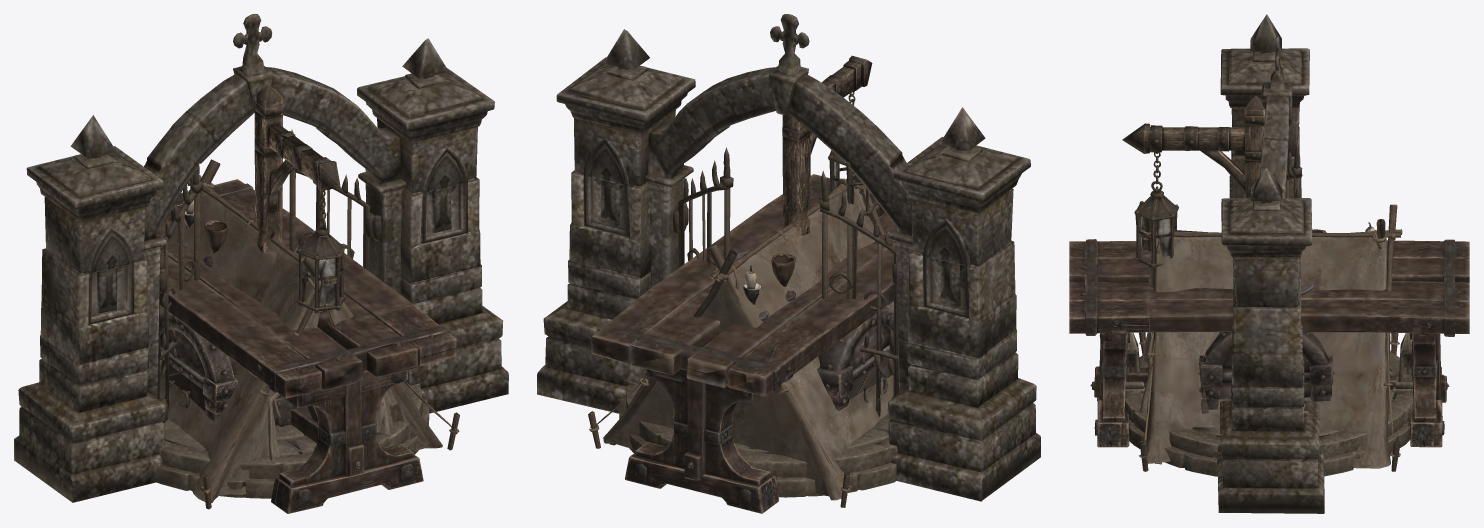
The model's file is camp.glb.
3 renders of one model, left to right at view 1: azimuth 30°, elevation 25°; view 2: azimuth 150°, elevation 25°; view 3: azimuth 270°, elevation 25°, orthographic. The views are drawn at different scales.
Parts seen in each view (by area): view 1: h_arch_gate, d_table_long_decorated_A, p_tent, h_post_lantern, p_waypoint, d_chest_gold, chest_gold_lid; view 2: h_arch_gate, d_table_long_decorated_A, p_tent, p_waypoint, h_post_lantern, chest_gold_lid, d_chest_gold; view 3: h_arch_gate, d_table_long_decorated_A, p_tent, p_waypoint, h_post_lantern, chest_gold_lid, d_chest_gold.
Boxes of the visible parts, x1,y1,x2,y2 form: h_arch_gate: (14, 14, 508, 502); d_table_long_decorated_A: (156, 179, 456, 513); p_tent: (159, 159, 459, 509); h_post_lantern: (254, 84, 345, 313); p_waypoint: (156, 382, 429, 498); d_chest_gold: (160, 346, 295, 434); chest_gold_lid: (159, 312, 238, 385); h_arch_gate: (537, 14, 1040, 501); d_table_long_decorated_A: (591, 174, 897, 513); p_tent: (588, 172, 893, 507); p_waypoint: (619, 381, 897, 497); h_post_lantern: (782, 55, 877, 235); chest_gold_lid: (816, 307, 893, 397); d_chest_gold: (824, 345, 893, 411); h_arch_gate: (1217, 14, 1324, 513); d_table_long_decorated_A: (1069, 222, 1469, 447); p_tent: (1139, 204, 1402, 471); p_waypoint: (1125, 332, 1413, 476); h_post_lantern: (1122, 95, 1265, 268); chest_gold_lid: (1199, 332, 1332, 386); d_chest_gold: (1198, 366, 1334, 413).
Bounding box in the file's own units: 4.22 × 3.8 × 3.65.
Materials: 14 (14 with a texture image).
